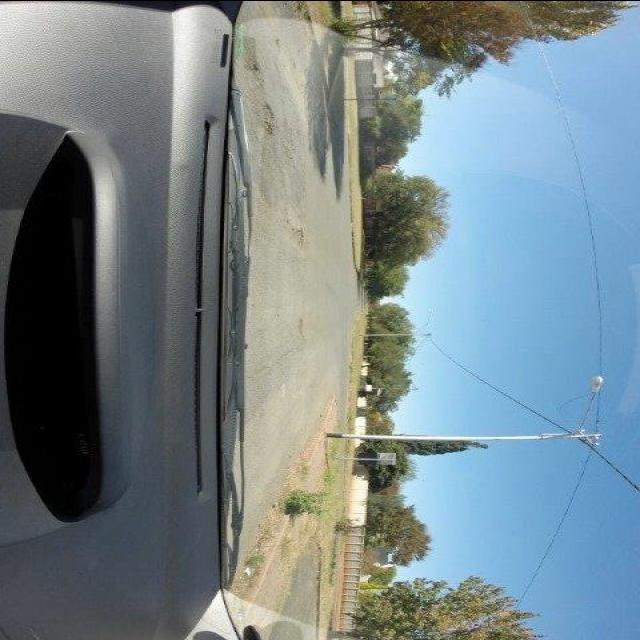lubang: (252, 99, 284, 140), (282, 220, 308, 249), (290, 318, 314, 342)
